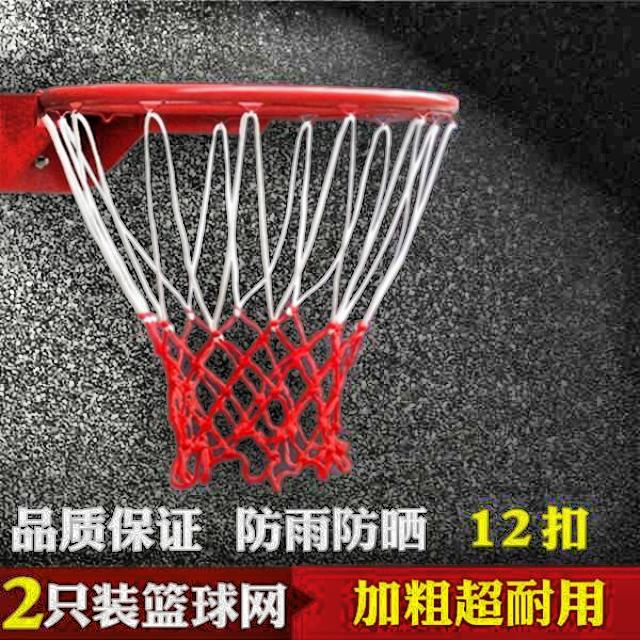rim: (42, 82, 460, 491)
